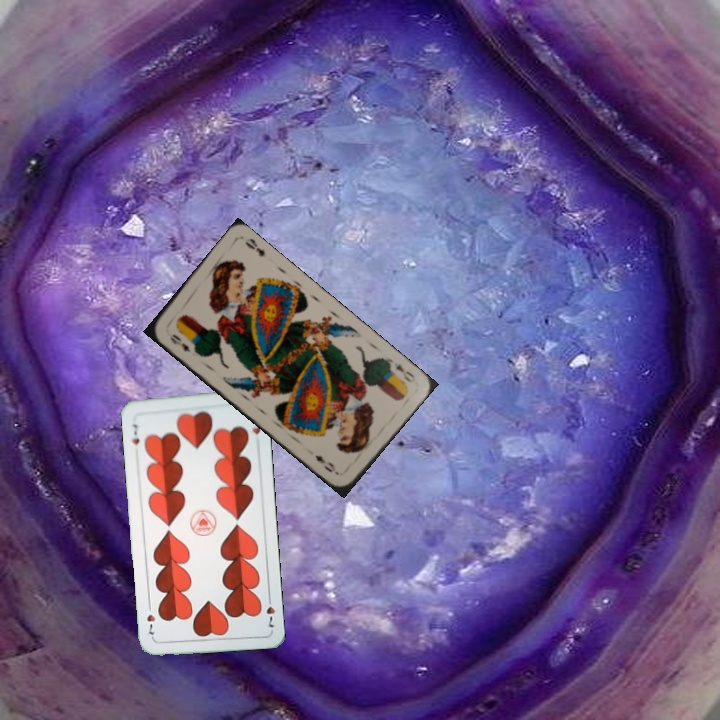EO: (383, 355, 418, 387), (166, 330, 194, 355)
H7: (262, 591, 278, 631), (128, 420, 142, 447)
